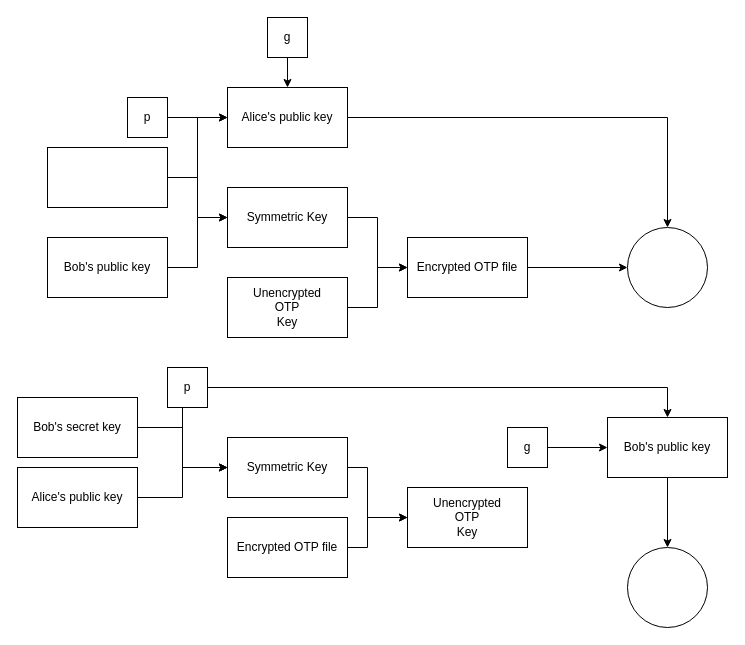
This 745x645 diagram has some shape labels left out. The box of each missing label's shape, as (x1, y1, x2, y2) in pixels:
Alice's secret key: (46, 146, 168, 208)
To Alice: (626, 546, 708, 628)
to Bob: (626, 226, 708, 308)
